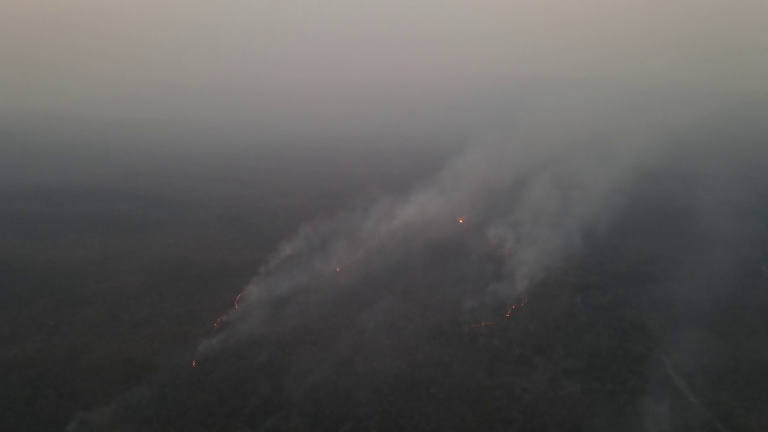fire: (212, 276, 257, 337), (462, 295, 531, 333), (491, 240, 533, 271), (332, 259, 353, 275), (189, 352, 203, 371), (453, 216, 467, 226)
smoke: (200, 102, 623, 359), (67, 378, 157, 432)
